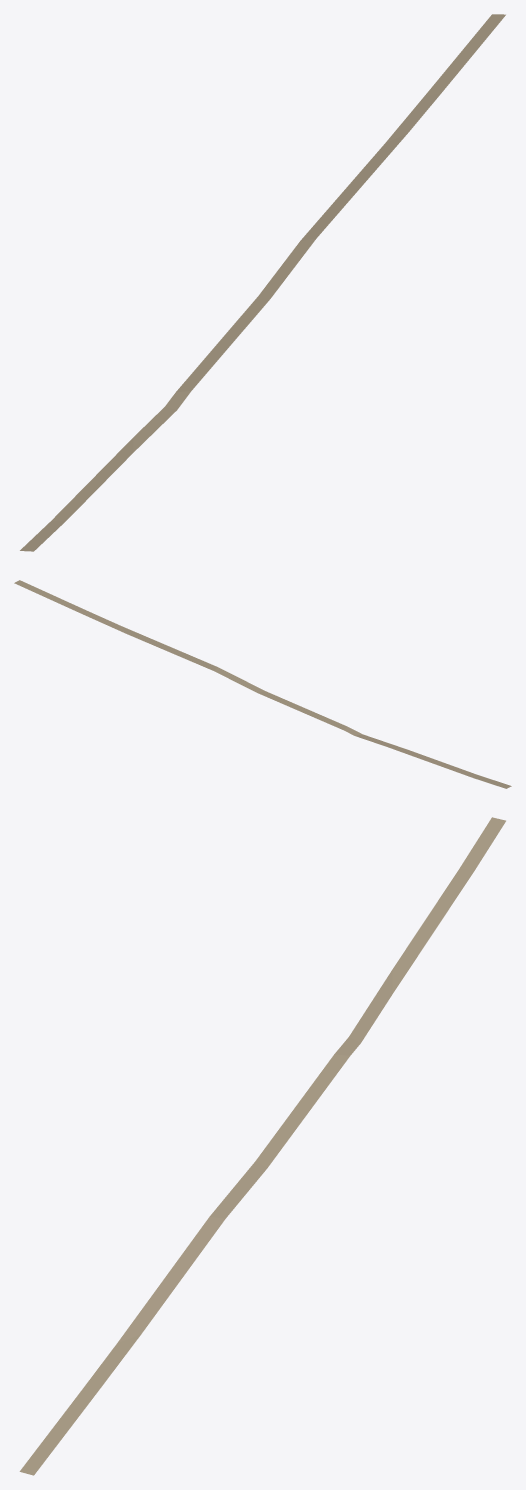
File: farm_0_1_track.glb
3 views of the same model, one above another, from view 1: azimuth 90°, elevation 25°; view 2: azimuth 150°, elevation 25°; view 3: azimuth 270°, elevation 25° (orthographic). The views are drawn at different scales.
Parts seen in each view (by area): view 1: geometry_0; view 2: geometry_0; view 3: geometry_0.
Part boxes in pixels (x1,y1,x2,y2): geometry_0: (20, 14, 505, 551); geometry_0: (14, 580, 511, 788); geometry_0: (19, 817, 505, 1475).
Bounding box in the file's own units: 304 × 14.37 × 105.
